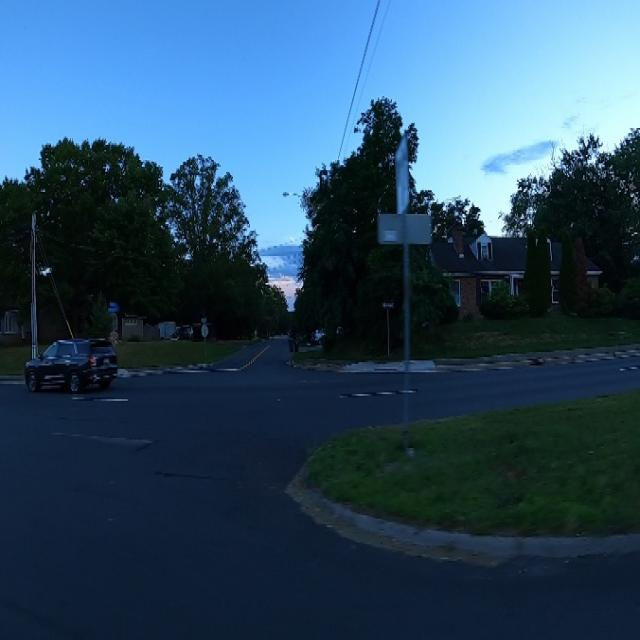cars: (19, 329, 118, 397)
